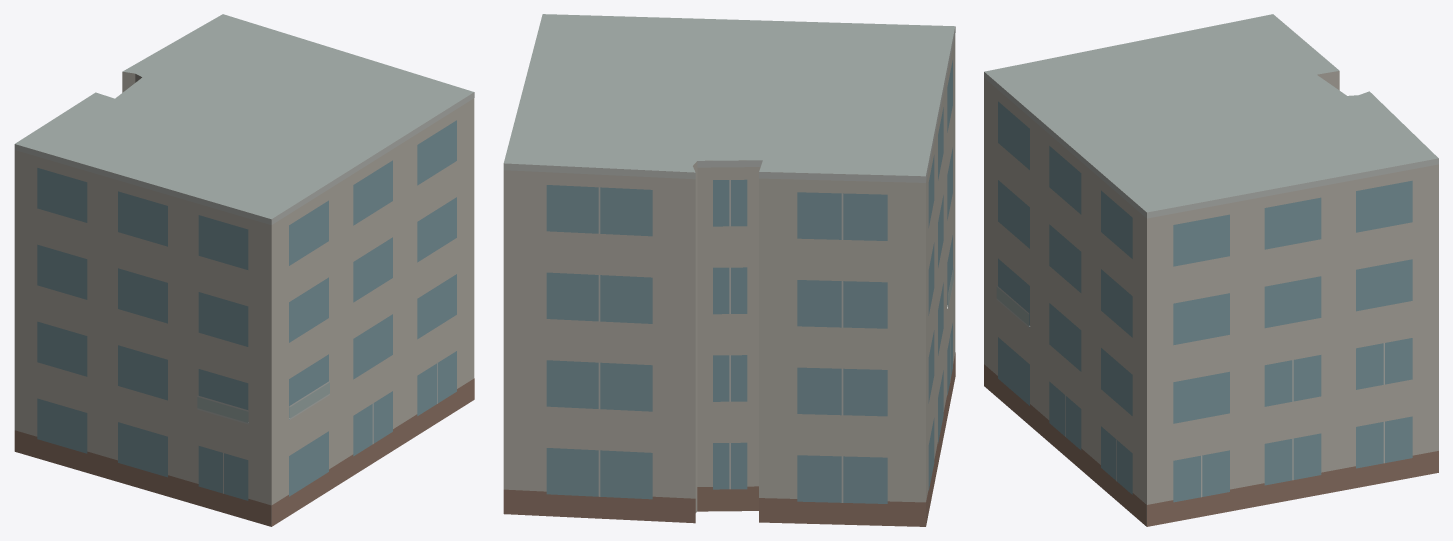
The model's file is survey-upis-32986840.glb.
3 views of the same model, side by side, from view 1: azimuth 30°, elevation 25°; view 2: azimuth 150°, elevation 25°; view 3: azimuth 270°, elevation 25° (orthographic). The views are drawn at different scales.
Visible parts, largest first — view 1: survey-upis-32986840.tmp; view 2: survey-upis-32986840.tmp; view 3: survey-upis-32986840.tmp.
Part boxes in pixels (<box>): survey-upis-32986840.tmp: <box>14,14,474,526</box>; survey-upis-32986840.tmp: <box>503,14,955,526</box>; survey-upis-32986840.tmp: <box>984,14,1438,526</box>.
Size of the model in its own units: 17.15 by 12.66 by 16.61.
